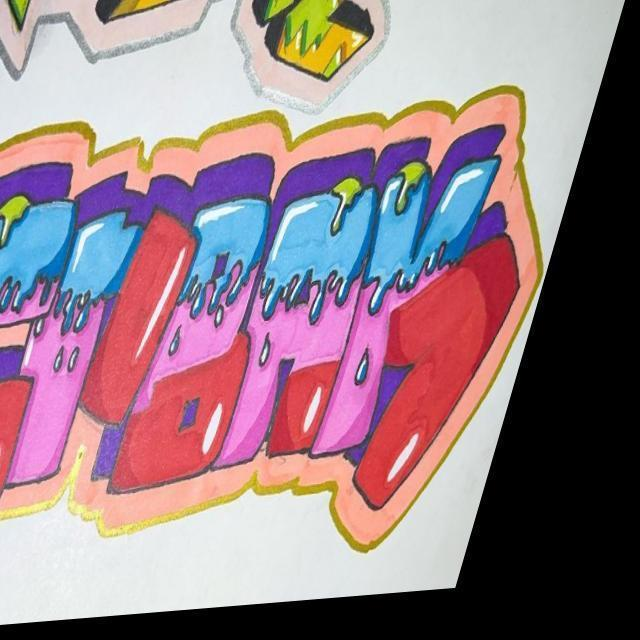nonspitting: (0, 86, 547, 555), (0, 0, 394, 115)
